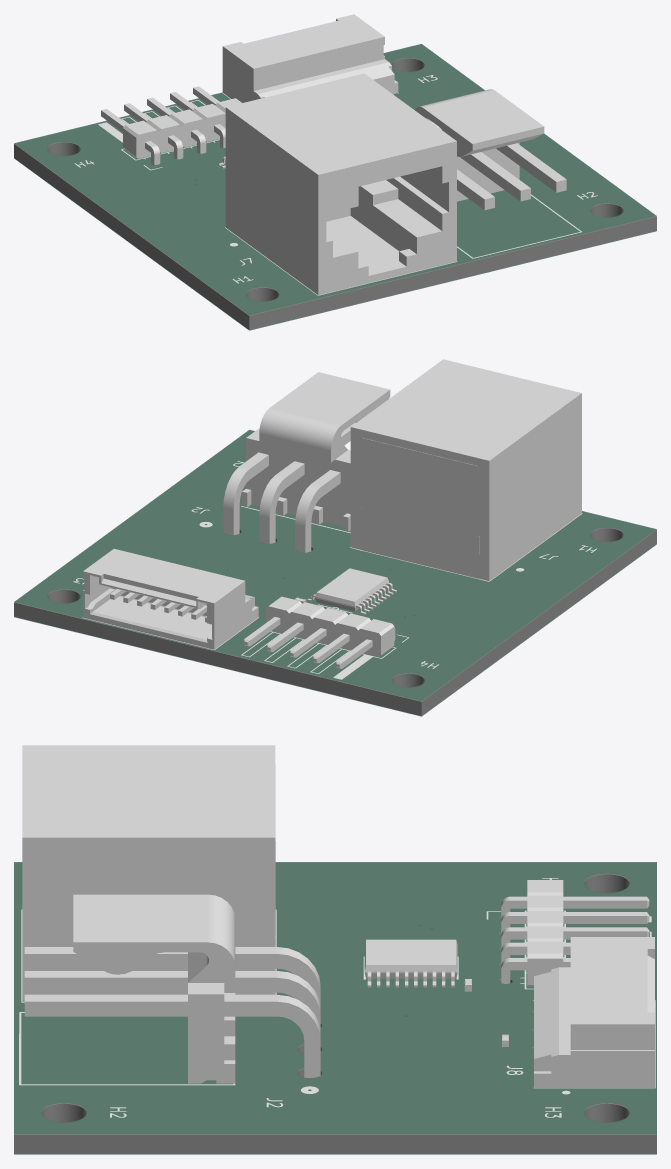
File: Motor_Adapt_M.glb
3 renders of one model, top to bottom at view 1: azimuth 30°, elevation 25°; view 2: azimuth 150°, elevation 25°; view 3: azimuth 270°, elevation 25°, orthographic. The views are drawn at different scales.
Parts seen in each view (by area): view 1: =>[0:1:1:15], J7, =>[0:1:1:13], J8, =>[0:1:1:2], J9, =>[0:1:1:11], =>[0:1:1:14]; view 2: =>[0:1:1:15], =>[0:1:1:13], J7, =>[0:1:1:2], J8, J9, U2, =>[0:1:1:11], =>[0:1:1:14]; view 3: =>[0:1:1:15], =>[0:1:1:13], J7, =>[0:1:1:2], J8, J9, U2, =>[0:1:1:11], =>[0:1:1:14].
Part boxes in pixels (box(x1,y1,x2,y2)): =>[0:1:1:15]: box(14, 45, 656, 330); J7: box(225, 73, 456, 295); =>[0:1:1:13]: box(14, 44, 656, 315); J8: box(222, 14, 398, 102); =>[0:1:1:2]: box(415, 89, 566, 210); J9: box(101, 86, 241, 164); =>[0:1:1:11]: box(74, 75, 597, 295); =>[0:1:1:14]: box(14, 158, 656, 330); =>[0:1:1:15]: box(14, 431, 656, 715); =>[0:1:1:13]: box(14, 429, 656, 701); J7: box(350, 359, 581, 581); =>[0:1:1:2]: box(223, 372, 390, 552); J8: box(83, 549, 258, 649); J9: box(244, 596, 395, 668); U2: box(307, 568, 396, 614); =>[0:1:1:11]: box(73, 461, 596, 679); =>[0:1:1:14]: box(14, 544, 656, 716); =>[0:1:1:15]: box(14, 863, 656, 1153); =>[0:1:1:13]: box(14, 862, 656, 1133); J7: box(22, 745, 275, 1001); =>[0:1:1:2]: box(24, 894, 320, 1083); J8: box(534, 937, 654, 1087); J9: box(501, 880, 649, 986); U2: box(364, 939, 457, 987); =>[0:1:1:11]: box(19, 878, 655, 1117); =>[0:1:1:14]: box(14, 1154, 656, 1154).
Bounding box in the file's own units: 0.045 × 0.0166 × 0.045.
